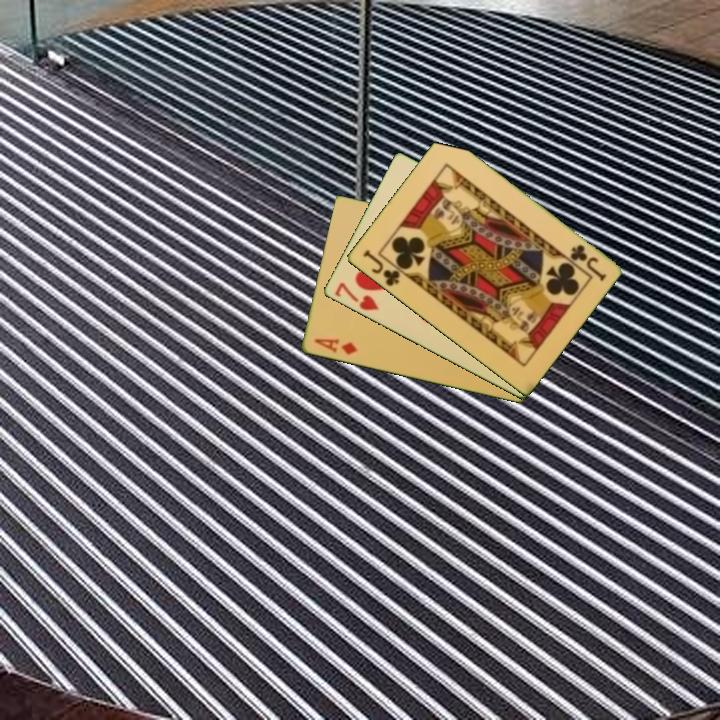7h: (331, 278, 382, 314)
Ad: (310, 335, 360, 358)
Jc: (359, 246, 403, 289), (566, 241, 609, 284)
